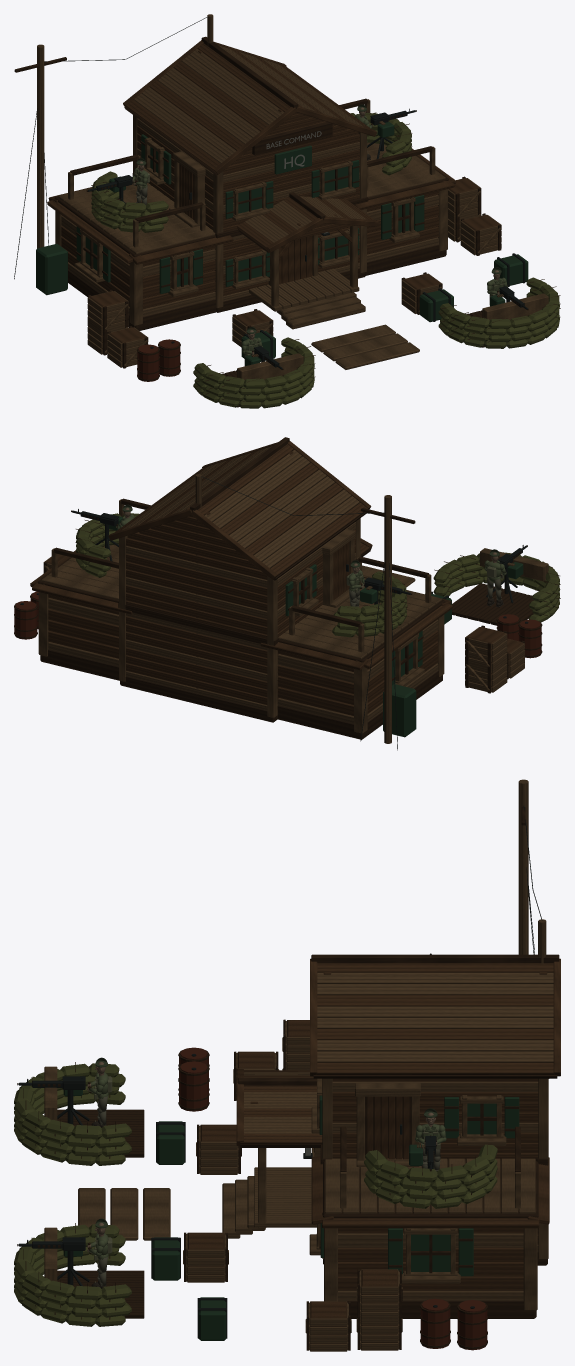
File: structure.glb
The picture shows the model from 3 angles, top to bottom: view 1: azimuth 30°, elevation 25°; view 2: azimuth 150°, elevation 25°; view 3: azimuth 270°, elevation 25°; orthographic projection. The views are drawn at different scales.
Parts seen in each view (by area): view 1: timber_headquarters__Timber_worn_edges, timber_headquarters__Weathered_timber, timber_headquarters__Dark_endgrain, timber_headquarters__Olive_canvas, timber_headquarters__Military_green_cases, timber_headquarters__Oxidized_dark_steel, timber_headquarters__Oxide_red_drums, timber_headquarters__Guard_olive_field_wool; view 2: timber_headquarters__Timber_worn_edges, timber_headquarters__Weathered_timber, timber_headquarters__Dark_endgrain, timber_headquarters__Olive_canvas, timber_headquarters__Military_green_cases, timber_headquarters__Oxidized_dark_steel, timber_headquarters__Oxide_red_drums, timber_headquarters__Guard_olive_field_wool, timber_headquarters__Guard_khaki_trousers; view 3: timber_headquarters__Timber_worn_edges, timber_headquarters__Weathered_timber, timber_headquarters__Olive_canvas, timber_headquarters__Dark_endgrain, timber_headquarters__Military_green_cases, timber_headquarters__Oxide_red_drums, timber_headquarters__Oxidized_dark_steel, timber_headquarters__Guard_olive_field_wool, timber_headquarters__Guard_khaki_trousers.
Part boxes in pixels (left/top/right/bottom): timber_headquarters__Timber_worn_edges: left=37, top=14, right=548, bottom=380; timber_headquarters__Weathered_timber: left=47, top=40, right=499, bottom=366; timber_headquarters__Dark_endgrain: left=14, top=36, right=560, bottom=407; timber_headquarters__Olive_canvas: left=91, top=112, right=559, bottom=408; timber_headquarters__Military_green_cases: left=36, top=122, right=528, bottom=366; timber_headquarters__Oxidized_dark_steel: left=14, top=16, right=527, bottom=369; timber_headquarters__Oxide_red_drums: left=137, top=339, right=180, bottom=381; timber_headquarters__Guard_olive_field_wool: left=132, top=114, right=508, bottom=355; timber_headquarters__Timber_worn_edges: left=38, top=446, right=548, bottom=743; timber_headquarters__Weathered_timber: left=30, top=441, right=523, bottom=715; timber_headquarters__Dark_endgrain: left=14, top=437, right=560, bottom=739; timber_headquarters__Olive_canvas: left=76, top=513, right=559, bottom=637; timber_headquarters__Military_green_cases: left=109, top=514, right=523, bottom=737; timber_headquarters__Oxidized_dark_steel: left=20, top=475, right=528, bottom=750; timber_headquarters__Oxide_red_drums: left=14, top=591, right=541, bottom=658; timber_headquarters__Guard_olive_field_wool: left=116, top=514, right=506, bottom=591; timber_headquarters__Guard_khaki_trousers: left=349, top=576, right=501, bottom=606; timber_headquarters__Timber_worn_edges: left=44, top=779, right=553, bottom=1351; timber_headquarters__Weathered_timber: left=187, top=958, right=560, bottom=1343; timber_headquarters__Olive_canvas: left=14, top=1063, right=497, bottom=1326; timber_headquarters__Dark_endgrain: left=17, top=807, right=559, bottom=1350; timber_headquarters__Military_green_cases: left=63, top=1090, right=519, bottom=1340; timber_headquarters__Oxide_red_drums: left=179, top=1047, right=487, bottom=1350; timber_headquarters__Oxidized_dark_steel: left=18, top=806, right=542, bottom=1338; timber_headquarters__Guard_olive_field_wool: left=89, top=1072, right=446, bottom=1259; timber_headquarters__Guard_khaki_trousers: left=97, top=1096, right=440, bottom=1286.
Bounding box in the file's own units: 6.84 × 3.8 × 5.89.
Materials: 15 (3 with a texture image).
